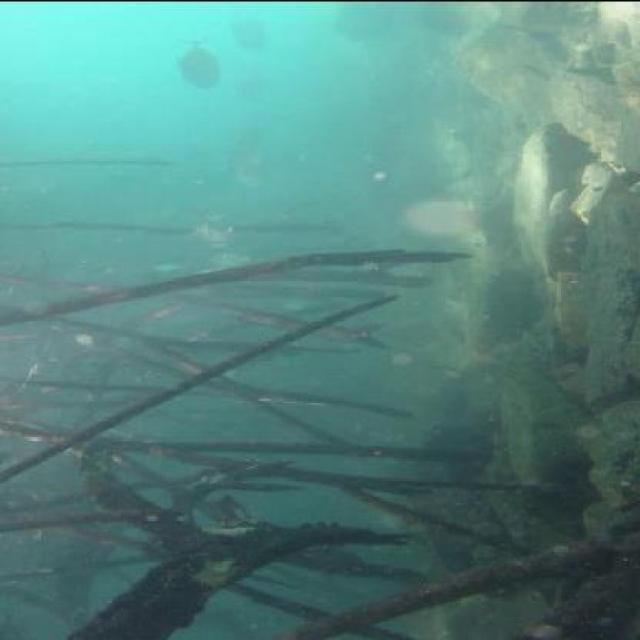Caranx_sexfasciatus_juvenile: (172, 35, 230, 94), (174, 211, 243, 247), (229, 10, 280, 48)
